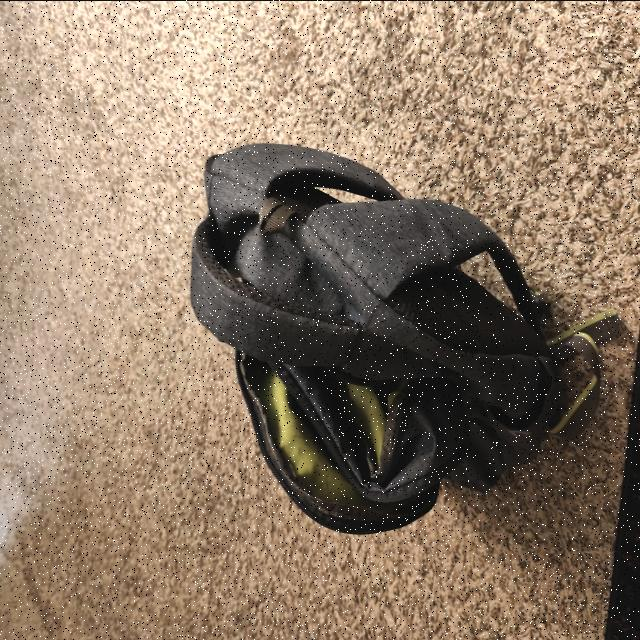bag: (205, 151, 572, 528)
